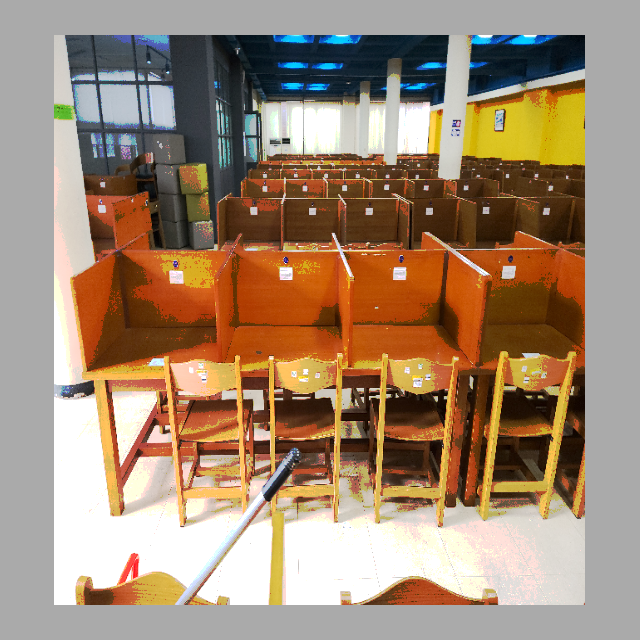empty: (220, 244, 353, 457), (78, 250, 214, 456), (359, 240, 479, 441)
